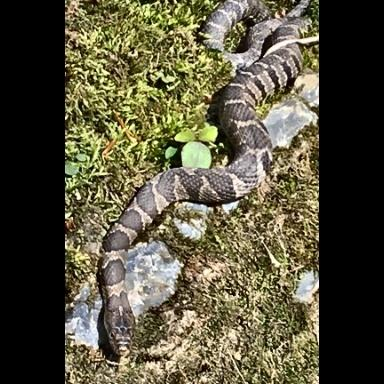snake: (94, 0, 319, 365)
